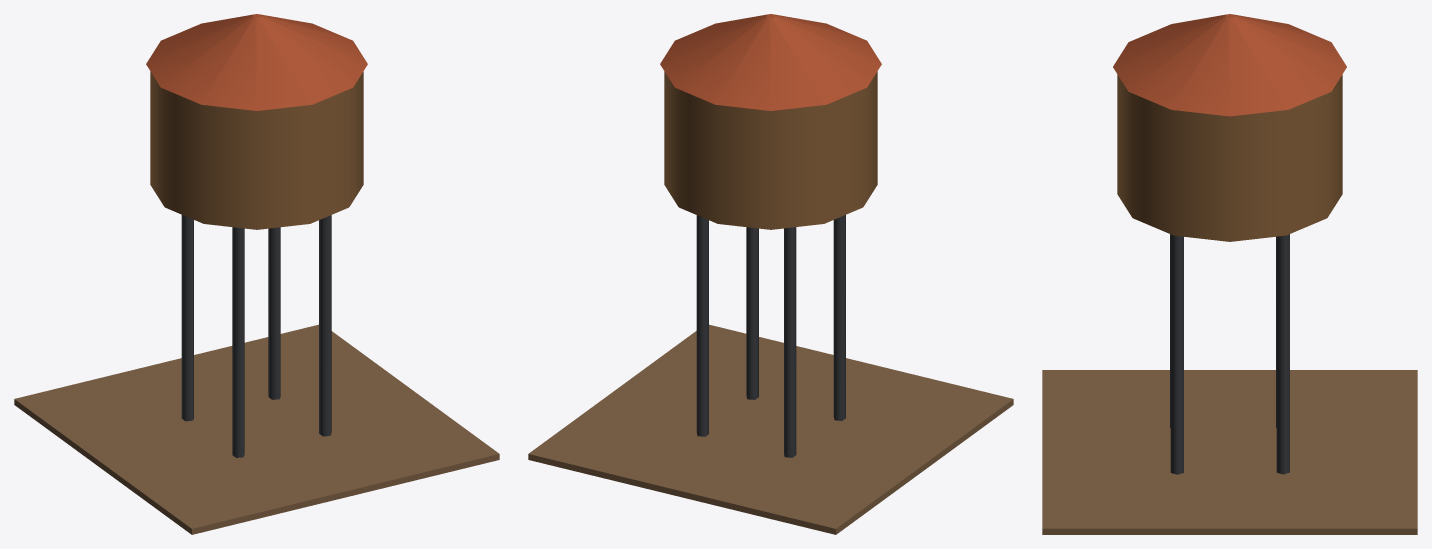
The model's file is bld_special_water_works_a04.glb.
3 renders of one model, left to right at view 1: azimuth 30°, elevation 25°; view 2: azimuth 150°, elevation 25°; view 3: azimuth 270°, elevation 25°, orthographic. The views are drawn at different scales.
Parts seen in each view (by area): view 1: body; view 2: body; view 3: body.
Part boxes in pixels (box(x1,y1,x2,y2)): body: box(14, 14, 499, 534); body: box(528, 14, 1013, 534); body: box(1042, 14, 1417, 534).
Size of what is drawn, in the model's own units: 8 by 10.35 by 8.
